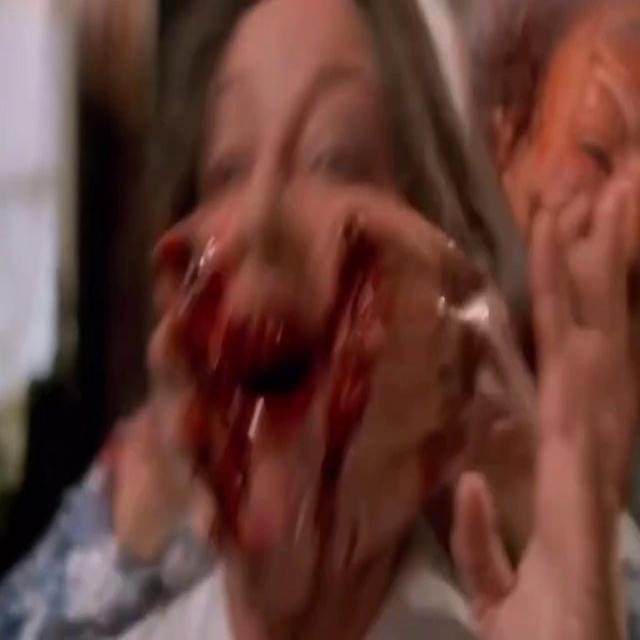flood: (135, 182, 409, 587)
